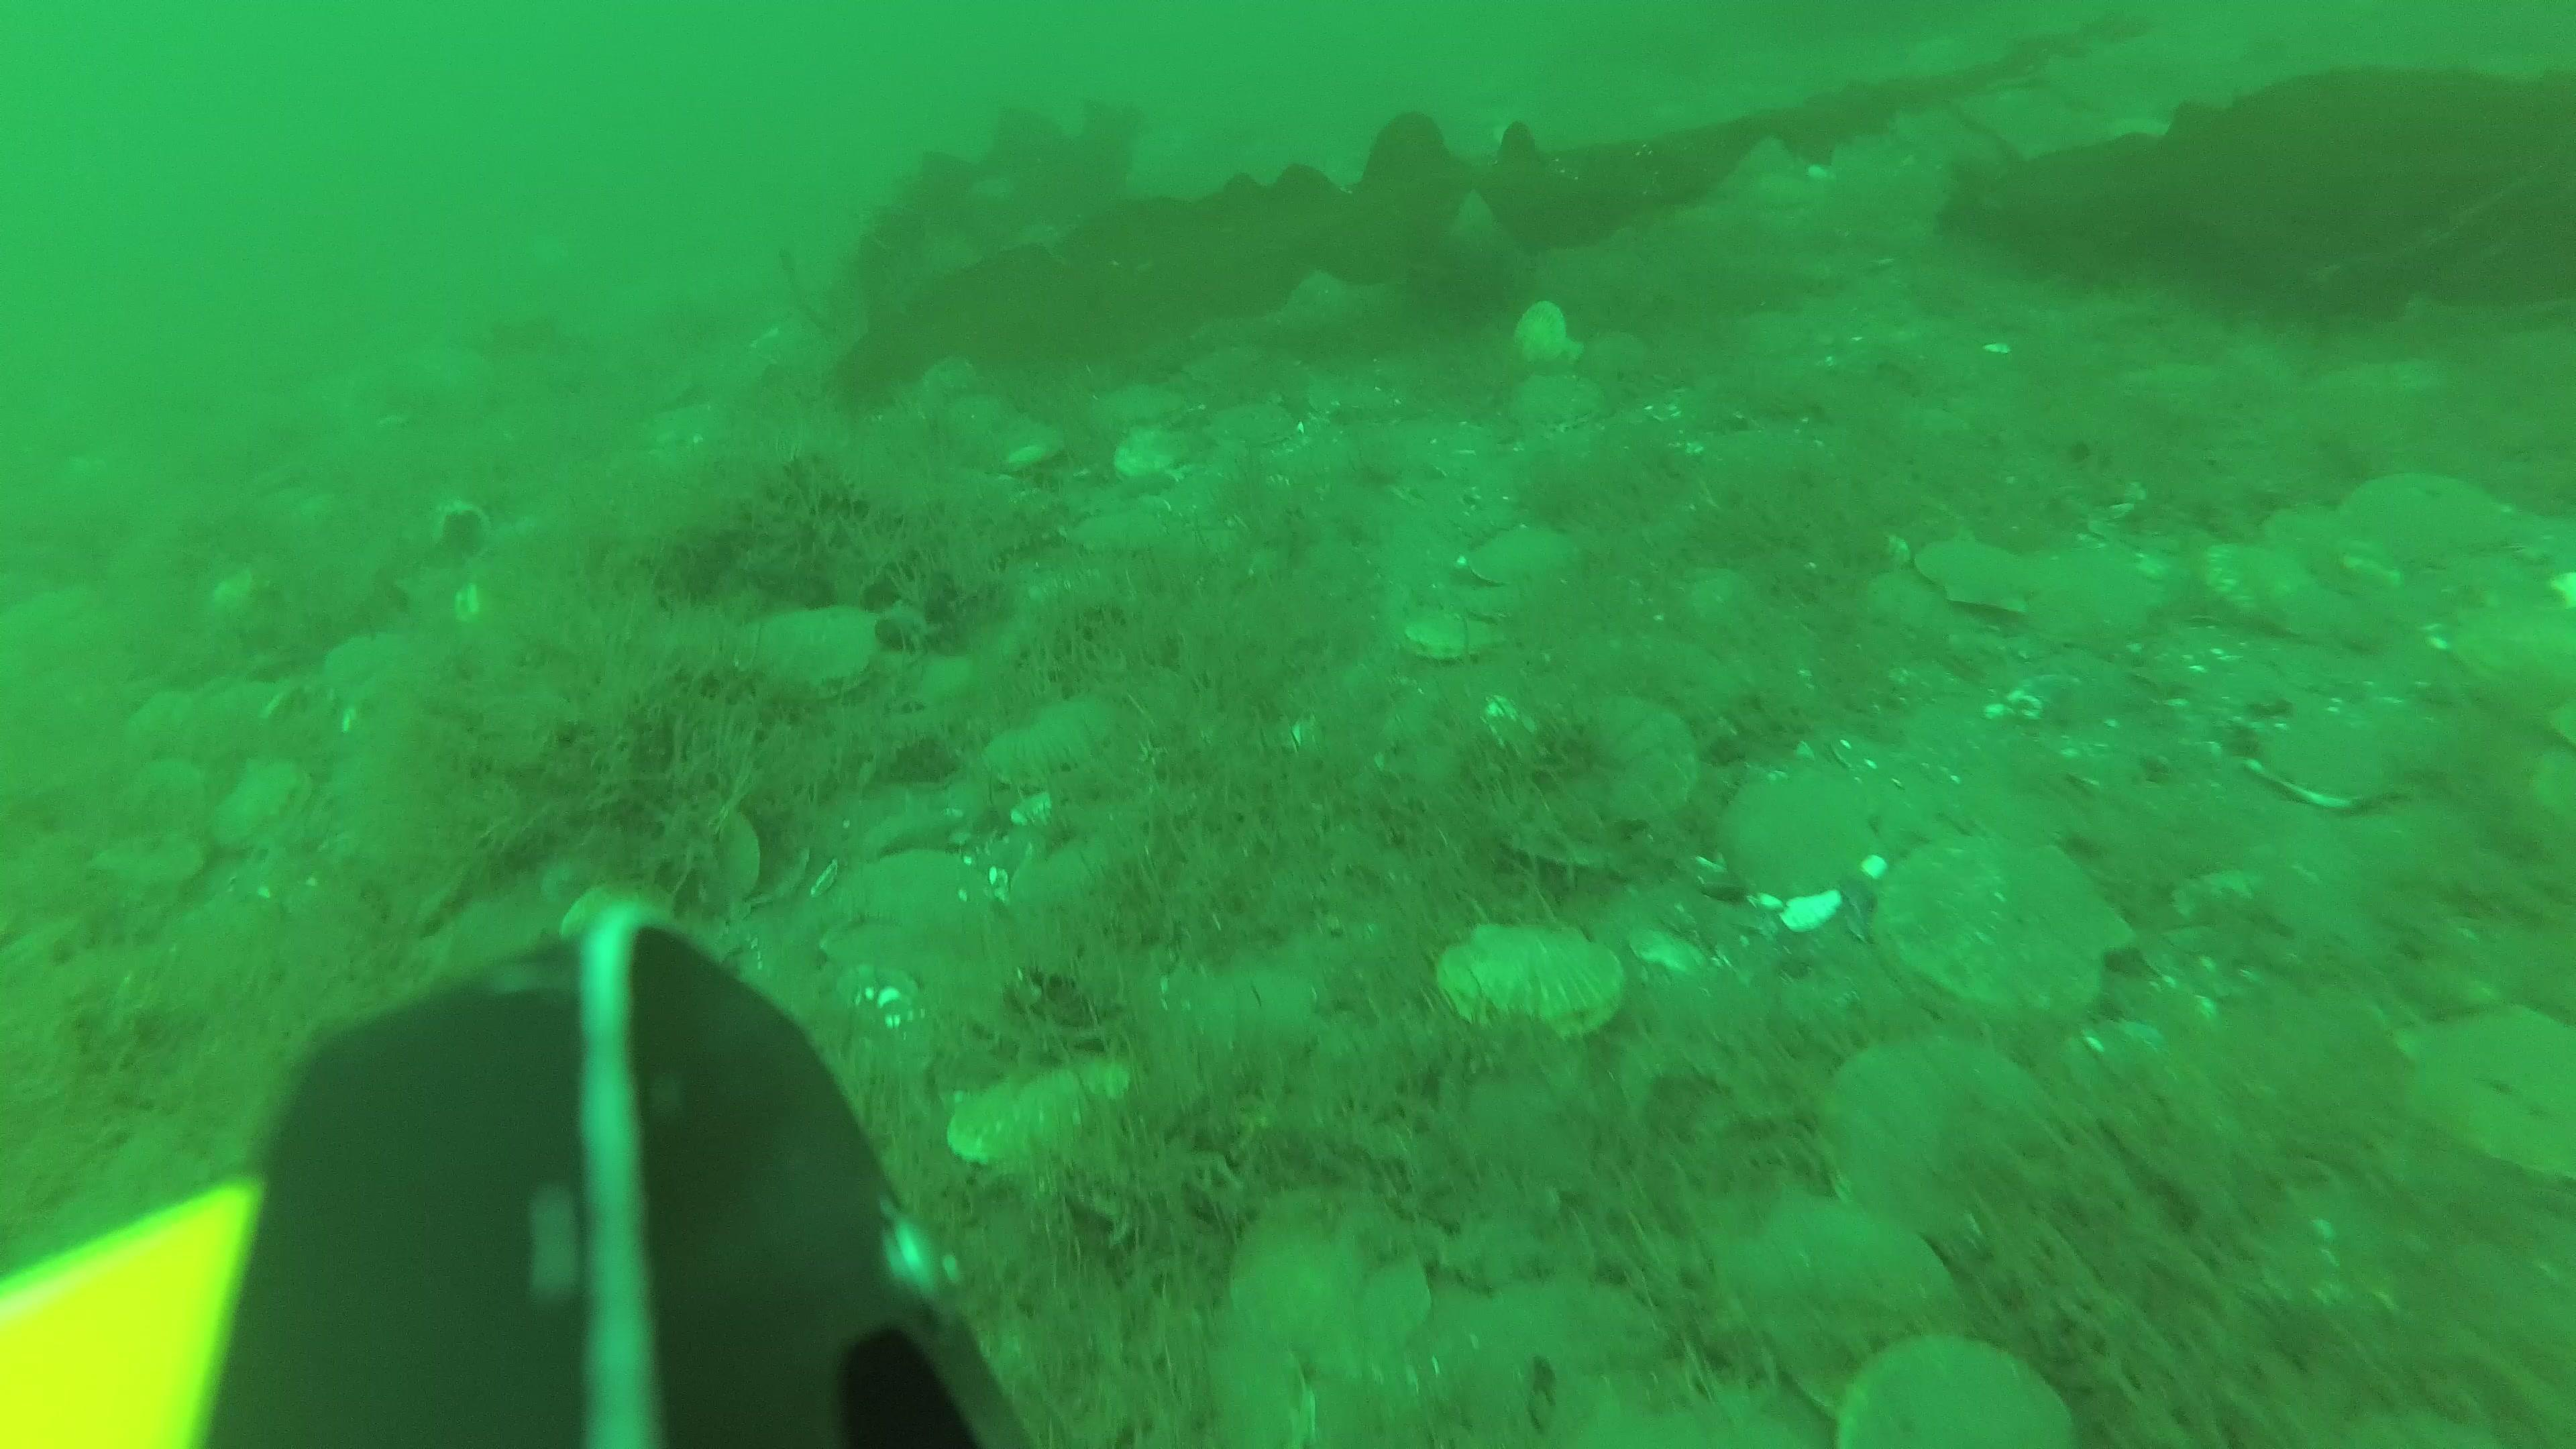scallop: (1813, 1026, 2049, 1244), (1888, 826, 2132, 1028), (1235, 1178, 1438, 1362), (1723, 1192, 1939, 1359), (2406, 996, 2576, 1200), (1522, 690, 1707, 837), (1831, 1336, 2070, 1449), (955, 1044, 1134, 1175), (1437, 924, 1628, 1033), (1755, 775, 1879, 920), (1506, 1274, 1667, 1382), (738, 598, 883, 717), (2017, 552, 2162, 663), (1196, 1320, 1323, 1442), (2362, 467, 2516, 564), (2254, 706, 2388, 816), (2204, 547, 2337, 649), (658, 796, 759, 902), (2265, 497, 2390, 571), (1916, 529, 2033, 609), (1467, 525, 1591, 593), (214, 771, 318, 849), (322, 639, 426, 711), (1085, 386, 1182, 449), (1507, 370, 1594, 433), (1398, 609, 1495, 663), (1214, 400, 1295, 458), (1118, 428, 1189, 492), (1509, 299, 1573, 364)
